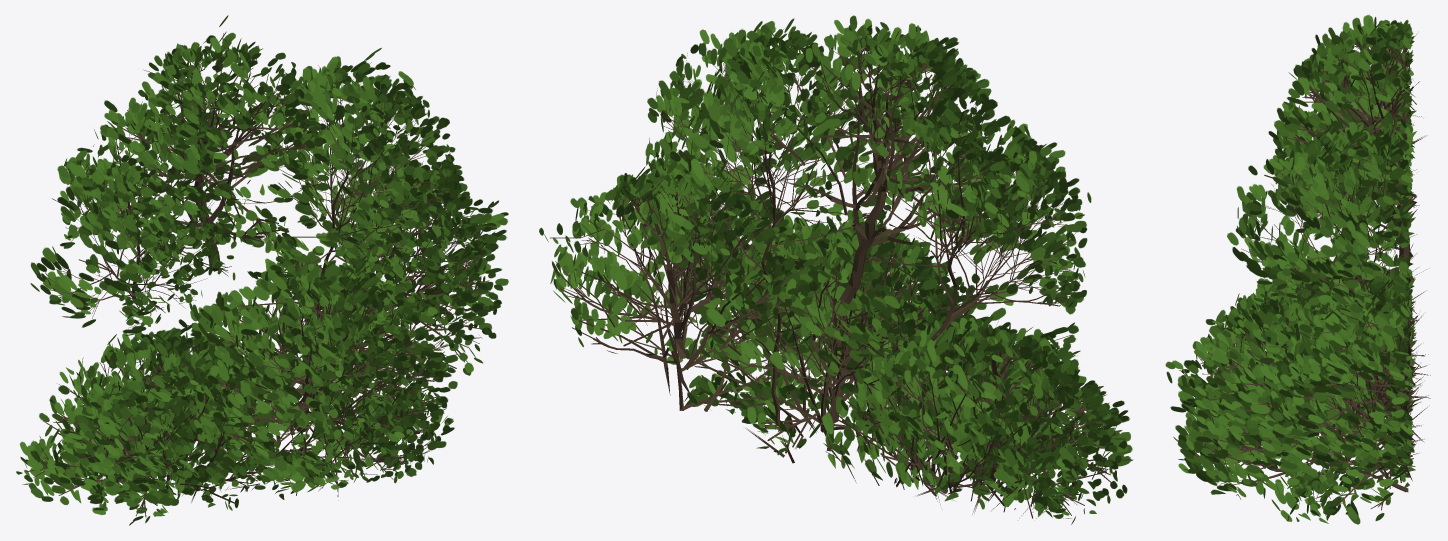
3 views of the same model, side by side, from view 1: azimuth 30°, elevation 25°; view 2: azimuth 150°, elevation 25°; view 3: azimuth 270°, elevation 25° (orthographic). The views are drawn at different scales.
Parts seen in each view (by area): view 1: oak 01.001_trunk_Mat.001_0.320; view 2: oak 01.001_trunk_Mat.001_0.320; view 3: oak 01.001_trunk_Mat.001_0.320.
Boxes of the visible parts, x1,y1,x2,y2 form: oak 01.001_trunk_Mat.001_0.320: (16,15,508,525); oak 01.001_trunk_Mat.001_0.320: (539,15,1132,524); oak 01.001_trunk_Mat.001_0.320: (1165,14,1430,524).
Size of the model in its own units: 3.9 by 3.15 by 1.78.
Materials: 2 (1 with a texture image).
